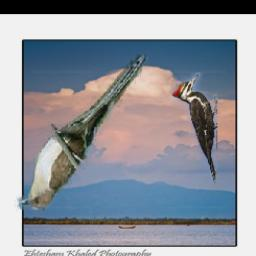Cuckoo: (15, 47, 148, 211)
Woodpecker: (171, 73, 217, 185)
